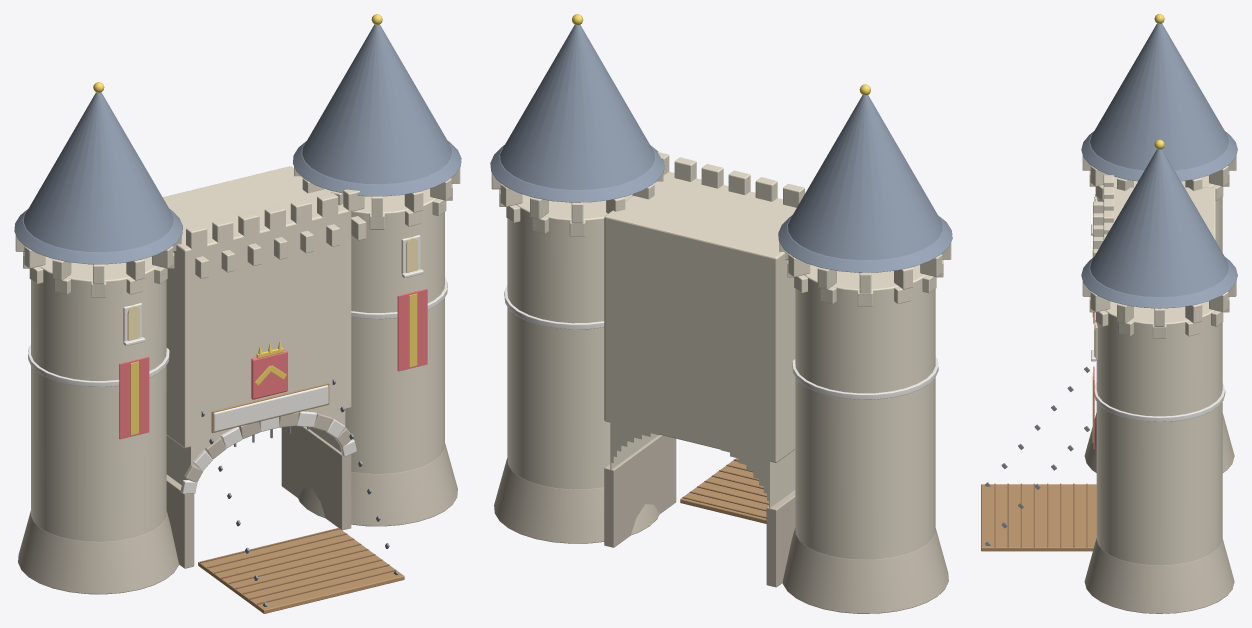
File: castle_gatehouse.fbx
3 views of the same model, side by side, from view 1: azimuth 30°, elevation 25°; view 2: azimuth 150°, elevation 25°; view 3: azimuth 270°, elevation 25° (orthographic). The views are drawn at different scales.
Visible parts, largest first — view 1: Visual; view 2: Visual; view 3: Visual.
Boxes of the visible parts, x1=… form: Visual: x1=14, y1=14, x2=461, y2=613; Visual: x1=490, y1=14, x2=952, y2=613; Visual: x1=981, y1=14, x2=1237, y2=613.
Size of what is drawn, in the model's own units: 2595 by 2790 by 1467.
